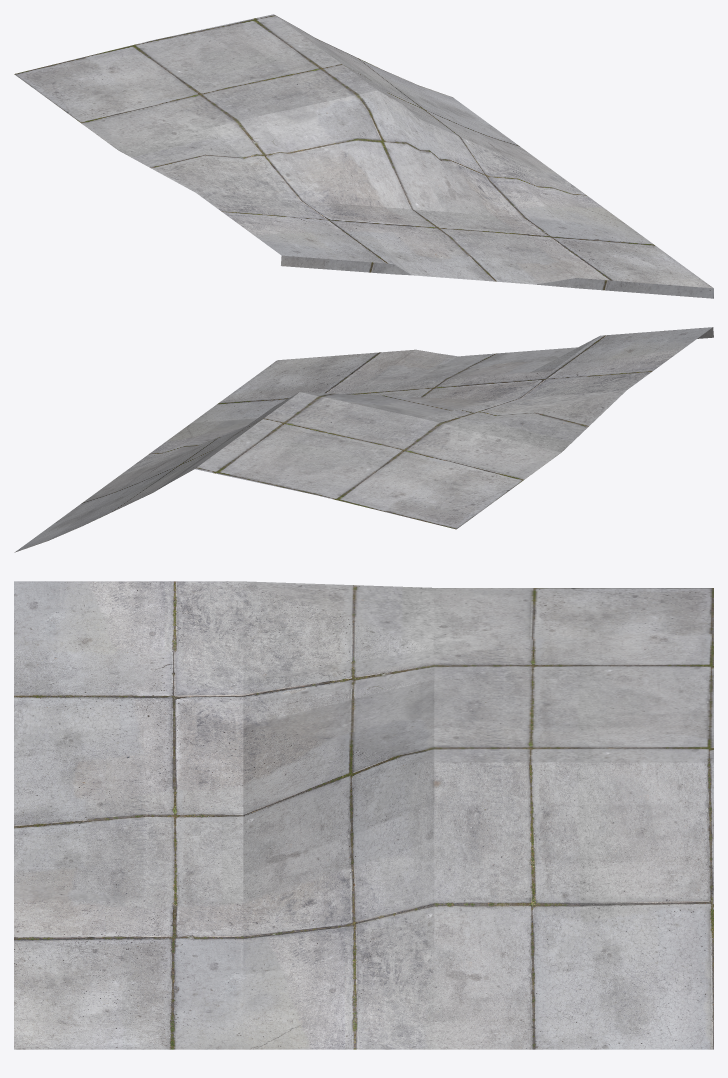
File: single_apron_sidewalk.fbx
3 renders of one model, top to bottom at view 1: azimuth 30°, elevation 25°; view 2: azimuth 150°, elevation 25°; view 3: azimuth 270°, elevation 25°, orthographic. The views are drawn at different scales.
Parts seen in each view (by area): view 1: SidewalkSingleApron; view 2: SidewalkSingleApron; view 3: SidewalkSingleApron.
Boxes of the visible parts, x1,y1,x2,y2 form: SidewalkSingleApron: (14,14,713,298); SidewalkSingleApron: (14,327,713,552); SidewalkSingleApron: (14,581,713,1049).
Size of the model in its own units: 971 by 314 by 1000.
